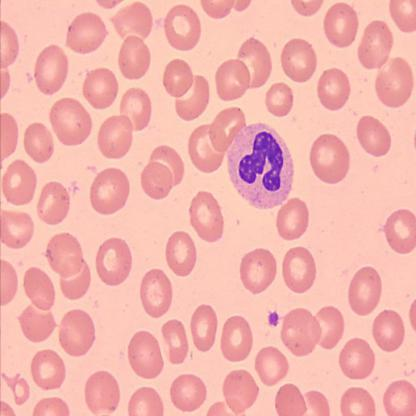Band Neutrophil: (226, 121, 296, 211)
